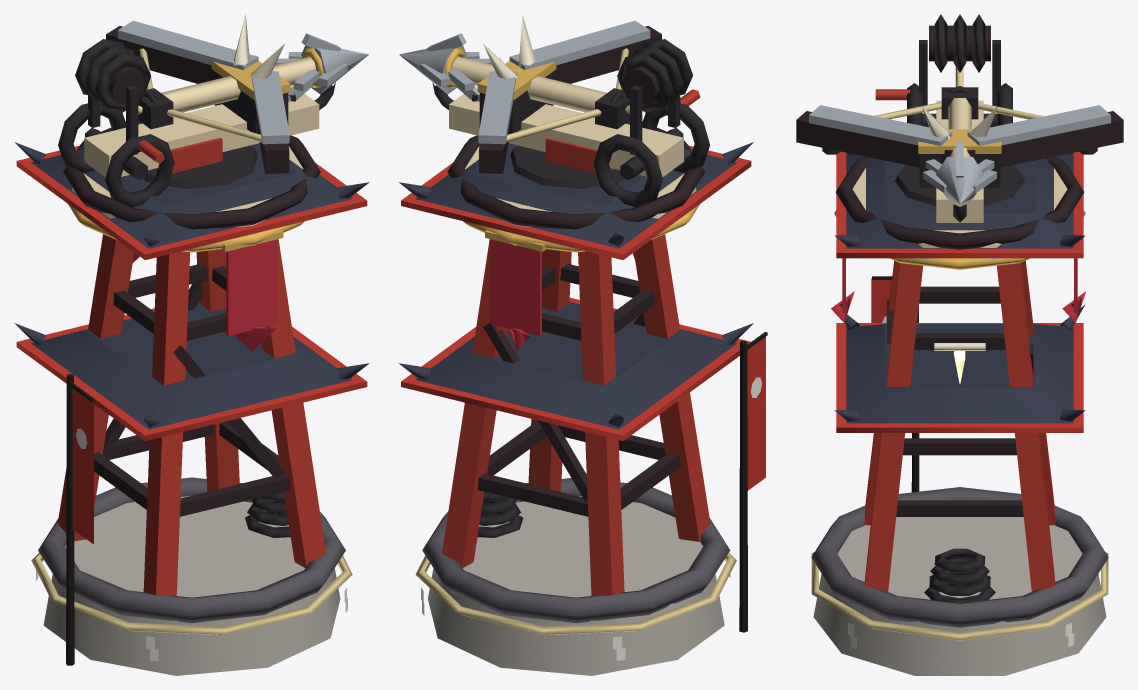
The model's file is tower_ballista_dragonSlayer.glb.
3 views of the same model, side by side, from view 1: azimuth 30°, elevation 25°; view 2: azimuth 150°, elevation 25°; view 3: azimuth 270°, elevation 25° (orthographic). The views are drawn at different scales.
Parts seen in each view (by area): view 1: base, deco_eave_1_roof, base_rim, leg_wn, deco_eave_0_roof, leg_en, stock, deco_eave_1_rim, deck_rim, deco_eave_0_rim, banner_n, leg_ws (+38 smaller); view 2: base, deco_eave_1_roof, base_rim, leg_ws, deco_eave_0_roof, leg_wn, leg_es, stock, deco_eave_1_rim, deco_eave_0_rim, deck_rim, banner_s (+36 smaller); view 3: base, deco_eave_1_roof, base_rim, deco_eave_0_roof, leg_en, leg_es, deck_rim, deco_eave_1_rim, deco_eave_0_rim, deco_shimenawa_rope, bow_arm_l, bow_arm_r (+31 smaller).
Part boxes in pixels (<box>): base: <box>43,495,340,675</box>; deco_eave_1_roof: <box>31,303,352,429</box>; base_rim: <box>38,477,345,622</box>; leg_wn: <box>143,251,190,595</box>; deco_eave_0_roof: <box>31,143,352,248</box>; leg_en: <box>261,239,326,567</box>; stock: <box>84,87,319,176</box>; deco_eave_1_rim: <box>16,308,367,440</box>; deck_rim: <box>63,120,320,229</box>; deco_eave_0_rim: <box>16,145,367,259</box>; banner_n: <box>226,239,277,335</box>; leg_ws: <box>57,234,134,540</box>; base: <box>428,495,724,675</box>; deco_eave_1_roof: <box>415,302,736,429</box>; base_rim: <box>422,478,730,623</box>; leg_ws: <box>578,251,624,595</box>; deco_eave_0_roof: <box>415,143,736,248</box>; leg_wn: <box>634,234,710,541</box>; leg_es: <box>442,239,508,567</box>; stock: <box>449,87,683,177</box>; deco_eave_1_rim: <box>401,297,750,440</box>; deco_eave_0_rim: <box>401,145,751,259</box>; deck_rim: <box>447,120,704,229</box>; banner_s: <box>490,239,541,335</box>; base: <box>813,517,1106,675</box>; deco_eave_1_roof: <box>846,324,1073,423</box>; base_rim: <box>811,487,1108,627</box>; deco_eave_0_roof: <box>846,152,1073,248</box>; leg_en: <box>864,263,922,591</box>; leg_es: <box>997,263,1055,591</box>; deck_rim: <box>835,156,1084,249</box>; deco_eave_1_rim: <box>836,323,1083,432</box>; deco_eave_0_rim: <box>836,151,1083,258</box>; deco_shimenawa_rope: <box>811,552,1108,640</box>; bow_arm_l: <box>796,111,952,167</box>; bow_arm_r: <box>967,111,1123,167</box>.
Size of the model in its own units: 0.4957 by 0.851 by 0.4469.
